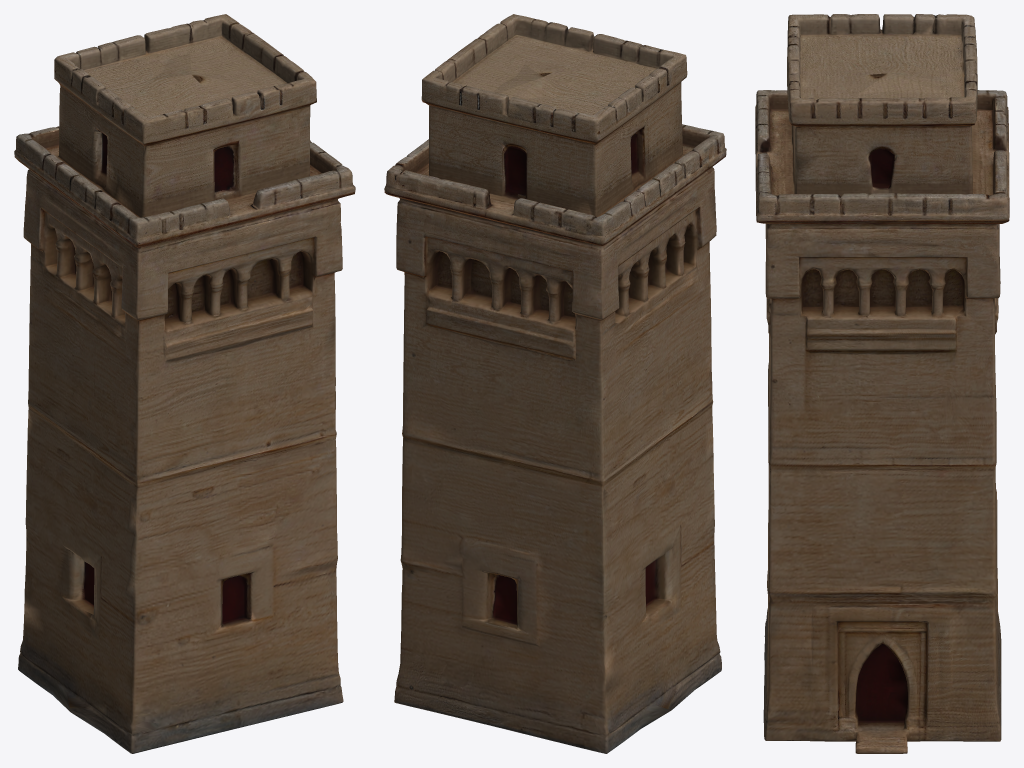
File: stone_tower.fbx
3 views of the same model, side by side, from view 1: azimuth 30°, elevation 25°; view 2: azimuth 150°, elevation 25°; view 3: azimuth 270°, elevation 25° (orthographic). The views are drawn at different scales.
Visible parts, largest first — view 1: Tower; view 2: Tower; view 3: Tower.
Boxes of the visible parts, <box> form: Tower: <box>14,14,355,753</box>; Tower: <box>384,14,726,753</box>; Tower: <box>755,14,1009,753</box>.
Bounding box in the file's own units: 39.32 × 96.23 × 34.92.
1 material, 1 textured.
